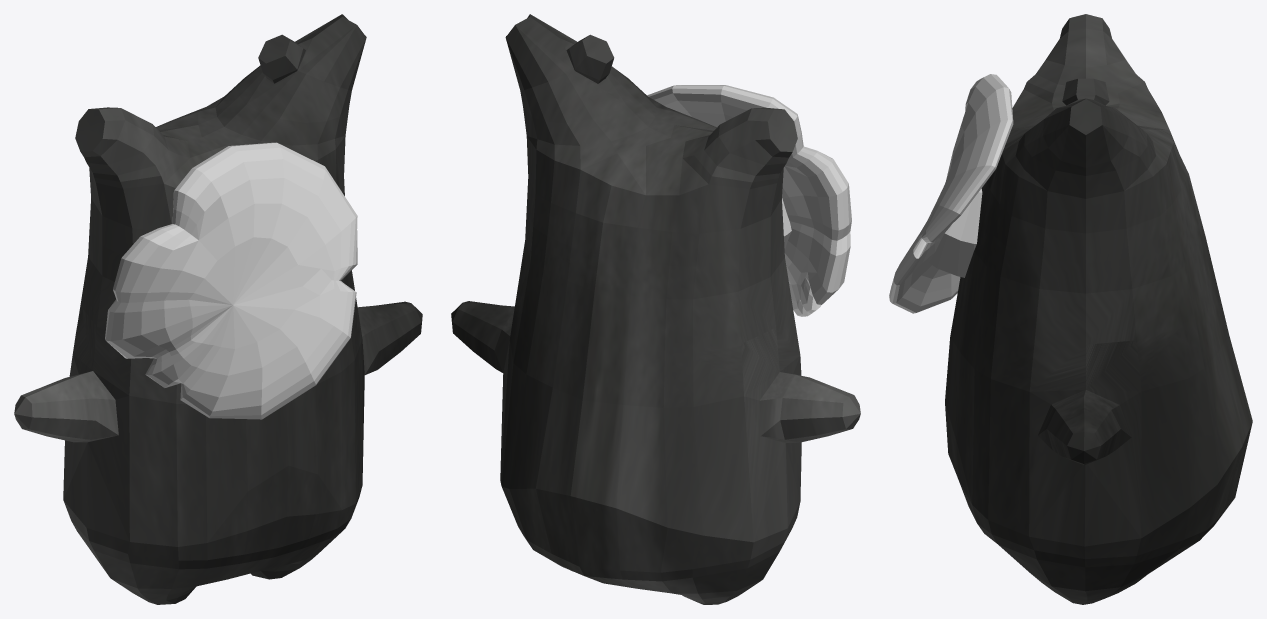
The model's file is frame_0076.obj.
3 views of the same model, side by side, from view 1: azimuth 30°, elevation 25°; view 2: azimuth 150°, elevation 25°; view 3: azimuth 270°, elevation 25° (orthographic).
Visible parts, largest first — view 1: korok, leaf; view 2: korok, leaf; view 3: korok, leaf, nose.
Boxes of the visible parts, x1,y1,x2,y2 form: korok: (14, 14, 422, 604); leaf: (105, 142, 357, 419); korok: (451, 14, 860, 604); leaf: (647, 85, 851, 316); korok: (945, 14, 1252, 604); leaf: (889, 74, 1013, 313); nose: (929, 188, 982, 277).
Bounding box in the file's own units: 1.77 × 2.25 × 1.38.
